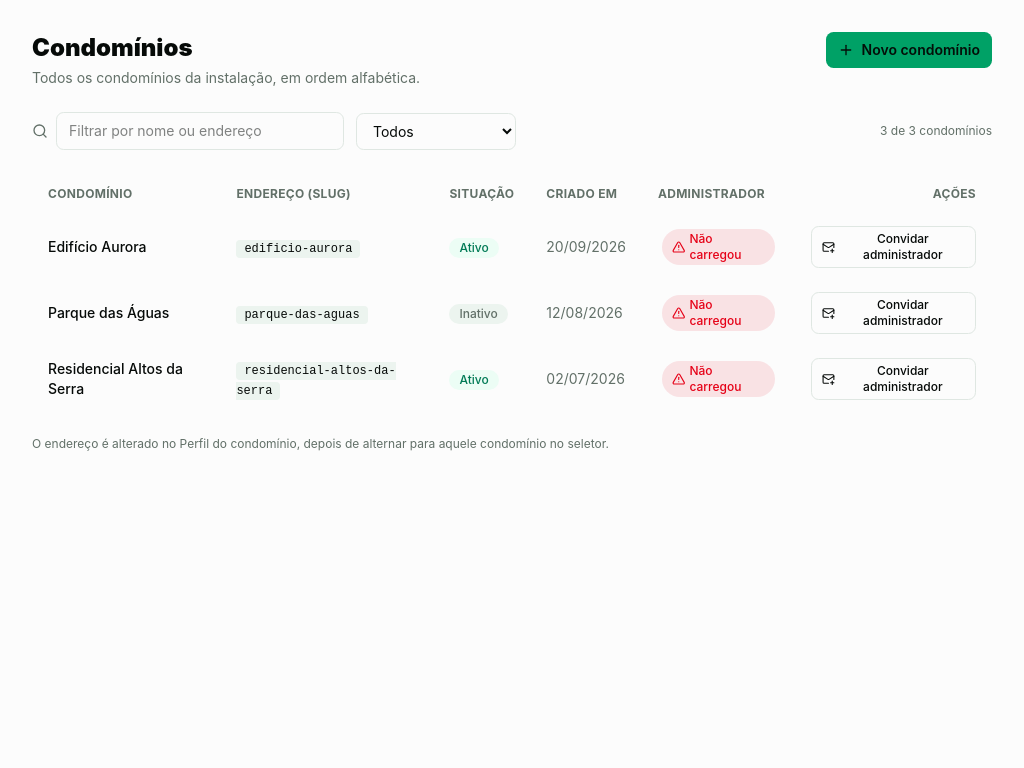
TenantsAdminPage — the per-tenant invitation panel › says the column failed instead of going silently blank, and still opens the panel
This screenshot has width=1024, height=768.
// (c) The cell still opens the panel, which is where the retry lives.
Click the button "Não carregou" in the row of "Edifício Aurora". click: [718, 247]
box: [658,227,779,267]
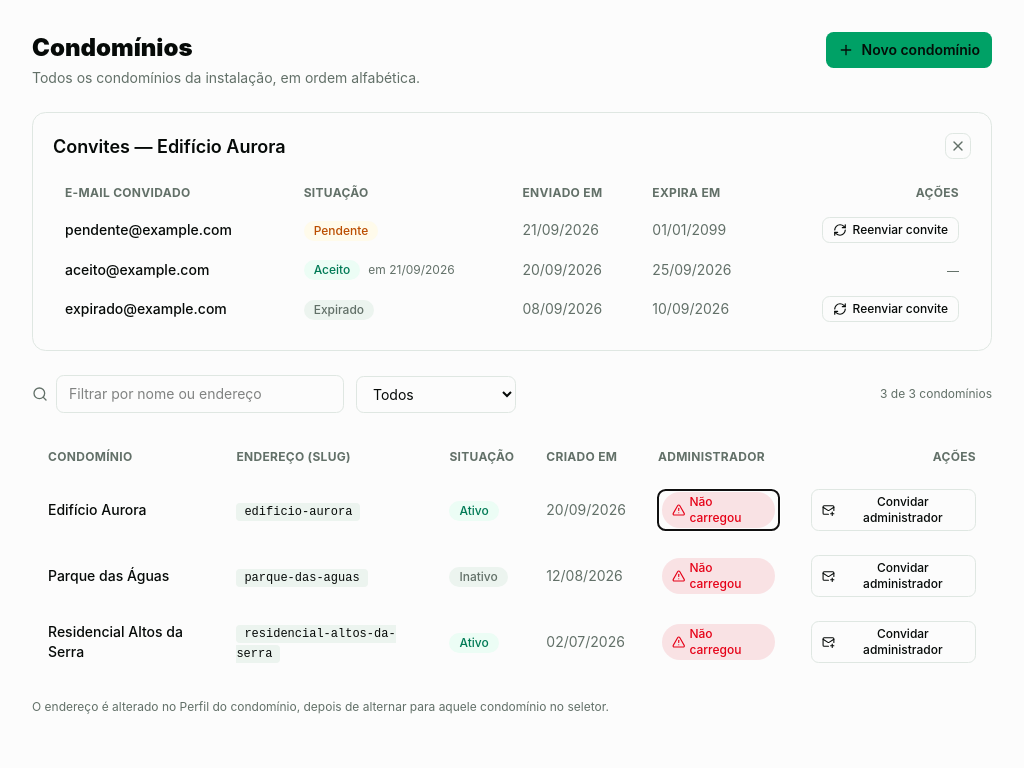
Result: the text "pendente@example.com" is shown at [53,209,292,251]
